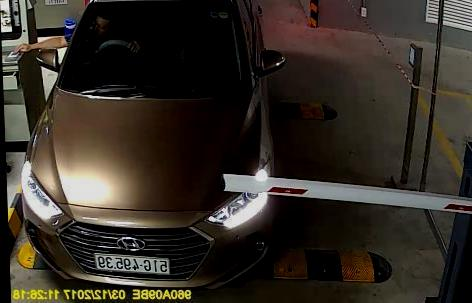License_Plate: (93, 254, 173, 275)
